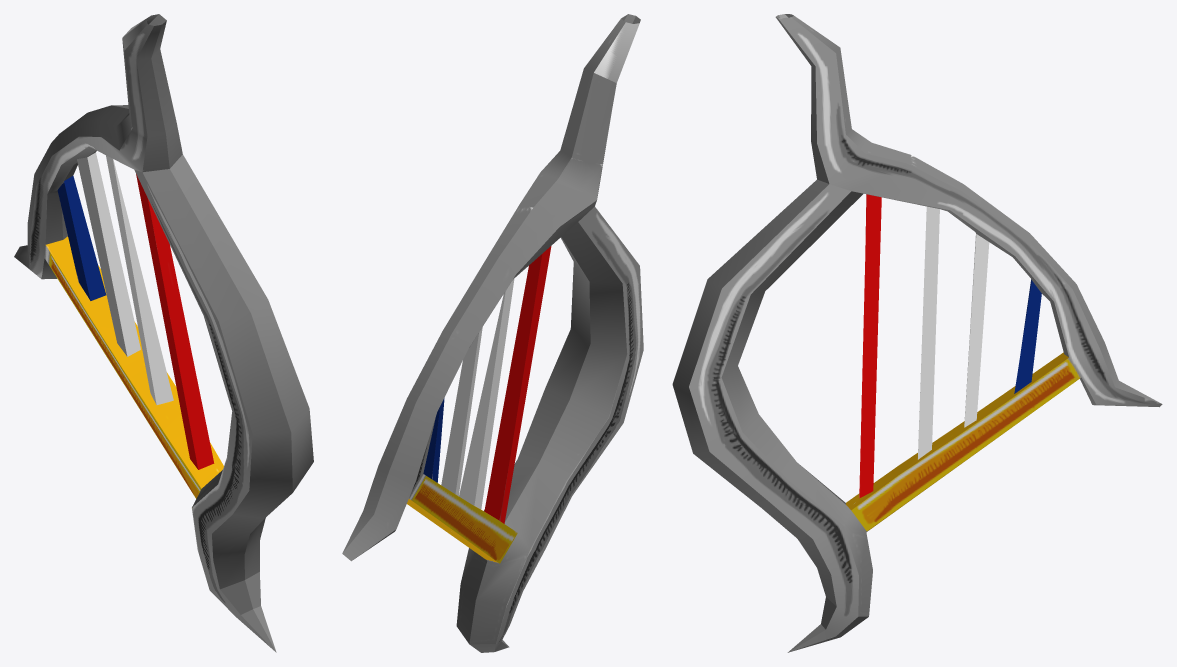
The model's file is Arpa1_000004.obj.
3 renders of one model, left to right at view 1: azimuth 30°, elevation 25°; view 2: azimuth 150°, elevation 25°; view 3: azimuth 270°, elevation 25°, orthographic. The views are drawn at different scales.
Visible parts, largest first — view 1: a1_pCube7.001; view 2: a1_pCube7.001; view 3: a1_pCube7.001.
Part boxes in pixels (x1=…): a1_pCube7.001: x1=14, y1=14, x2=313, y2=652; a1_pCube7.001: x1=342, y1=14, x2=643, y2=652; a1_pCube7.001: x1=672, y1=14, x2=1162, y2=652.
Size of the model in its own units: 2.27 by 10.03 by 7.6.
